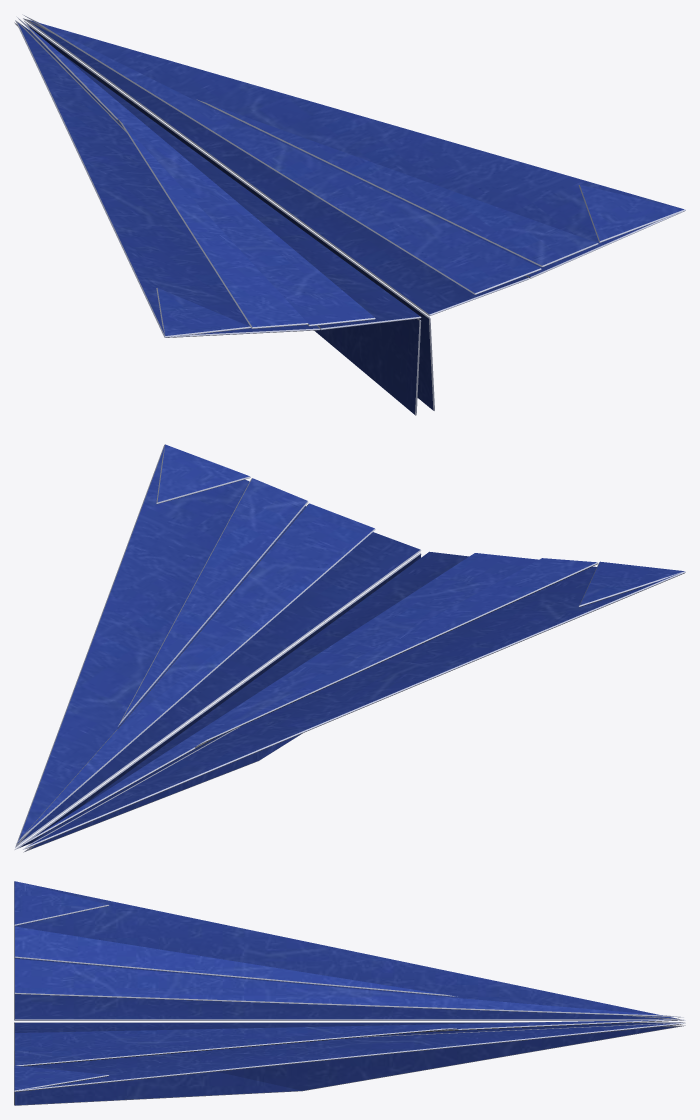
File: plane_flight.glb
3 renders of one model, top to bottom at view 1: azimuth 30°, elevation 25°; view 2: azimuth 150°, elevation 25°; view 3: azimuth 270°, elevation 25°, orthographic. The views are drawn at different scales.
Parts seen in each view (by area): view 1: wing_r, wing_l, plane; view 2: wing_r, wing_l, plane; view 3: wing_l, wing_r, plane.
Part boxes in pixels (x1,y1,x2,y2): wing_r: (22,14,685,316); wing_l: (15,16,421,337); plane: (14,21,434,415); wing_r: (15,444,421,847); wing_l: (22,551,685,849); plane: (14,552,421,852); wing_l: (14,881,685,1020); wing_r: (14,1019,685,1091); plane: (14,1022,685,1105).
Bounding box in the file's own units: 0.2071 × 0.0534 × 0.2797.
1 material, 1 textured.
